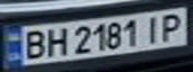1: (121, 17, 142, 47), (90, 20, 109, 52)
2: (69, 22, 93, 55)
8: (106, 19, 127, 51)
B: (18, 28, 48, 61)
H: (42, 25, 69, 57)
I: (139, 12, 166, 44)
P: (154, 10, 190, 43)
